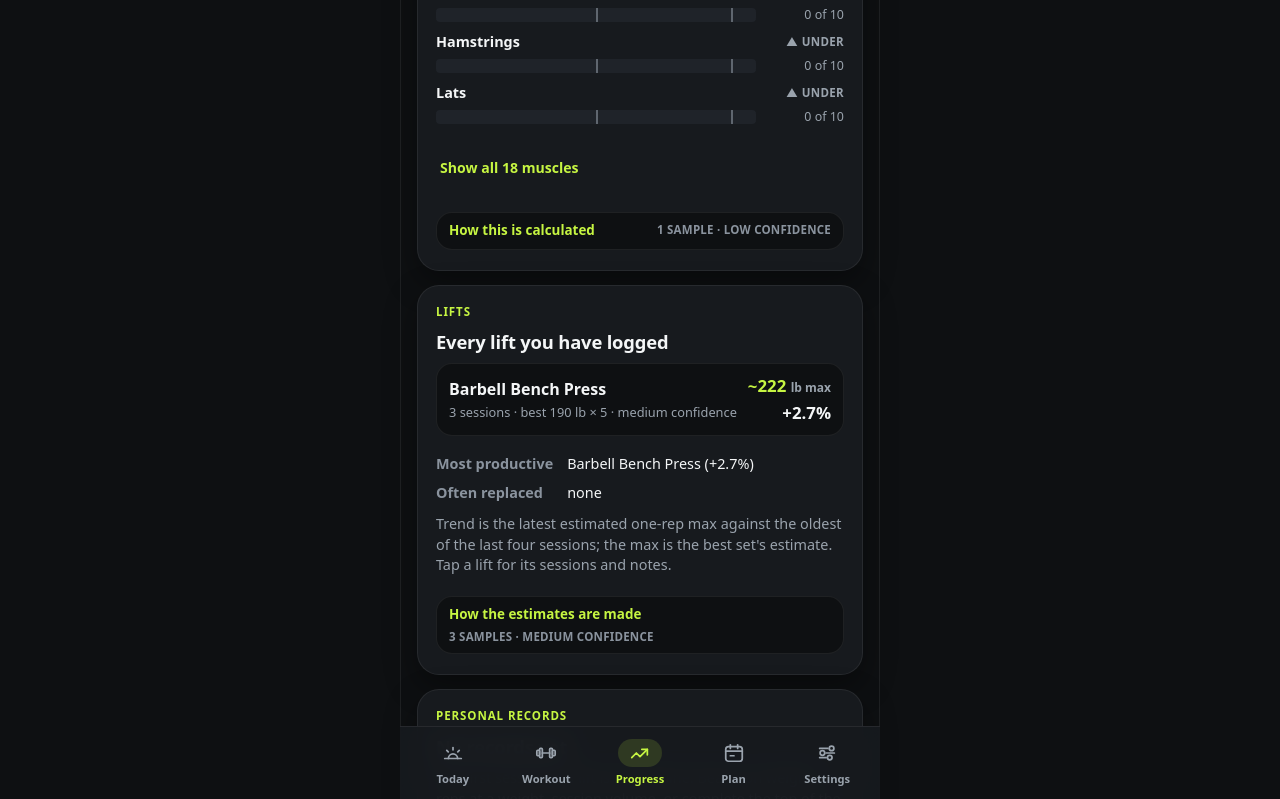
Scenario: a lift’s sessions on Progress, the first review of round N › lists every working set of a session on top set plus back-offs
(page scrolled)
Click the button with test id "exercise-progress-row": (640, 400) [436,363,844,436]
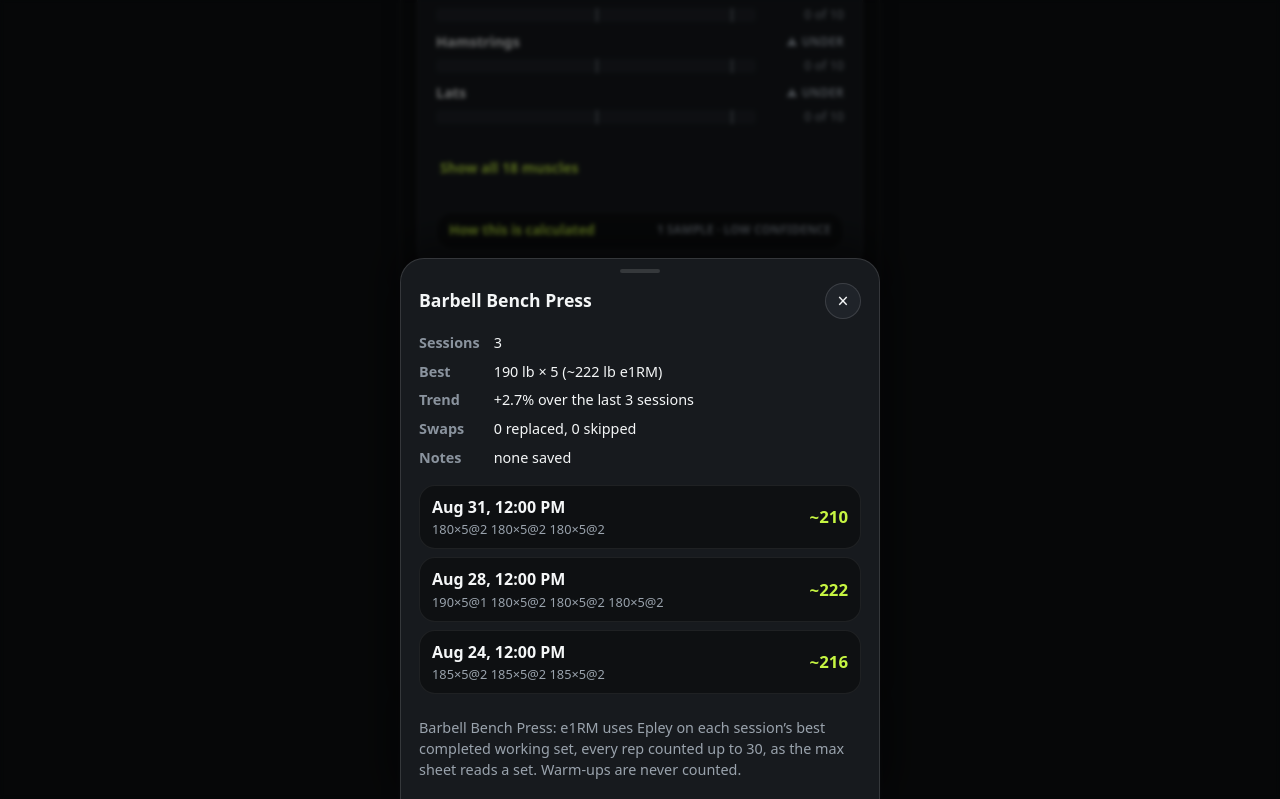
Check: the text "190×5@1 180×5@2 180×5@2 180×5@2" is shown, box [432,593,664,611]
